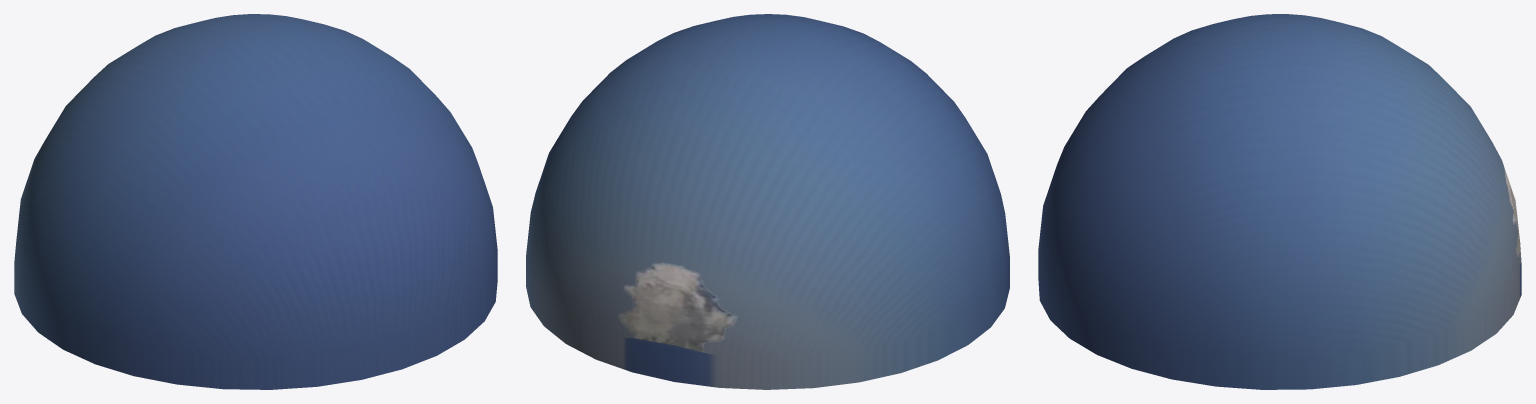
3 renders of one model, left to right at view 1: azimuth 30°, elevation 25°; view 2: azimuth 150°, elevation 25°; view 3: azimuth 270°, elevation 25°, orthographic.
Parts seen in each view (by area): view 1: Sphere; view 2: Sphere; view 3: Sphere.
Boxes of the visible parts, <box> form: Sphere: <box>14,14,497,389</box>; Sphere: <box>526,14,1009,389</box>; Sphere: <box>1038,14,1521,389</box>.
Size of the model in its own units: 4185 by 2405 by 4185.
1 material, 1 textured.
